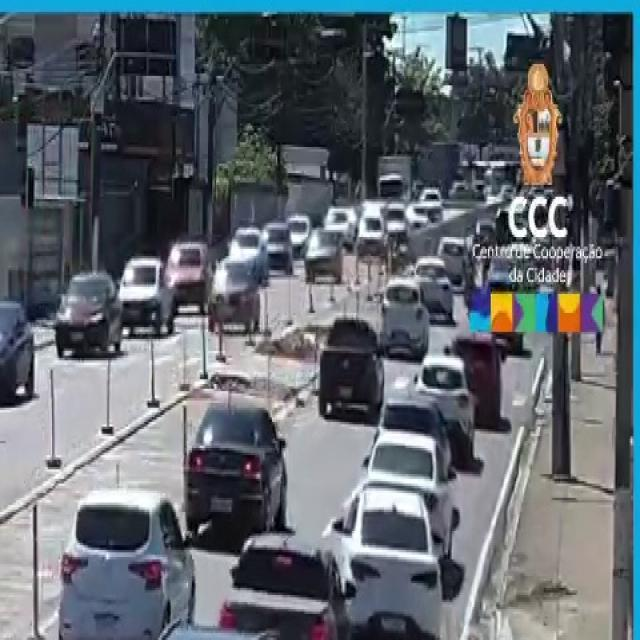car: (53, 486, 196, 640), (336, 483, 440, 640), (185, 400, 289, 534), (318, 312, 384, 421), (54, 269, 123, 359), (116, 249, 179, 341), (109, 614, 312, 640), (207, 258, 263, 336), (379, 275, 429, 361), (0, 298, 36, 408), (163, 241, 214, 315)
